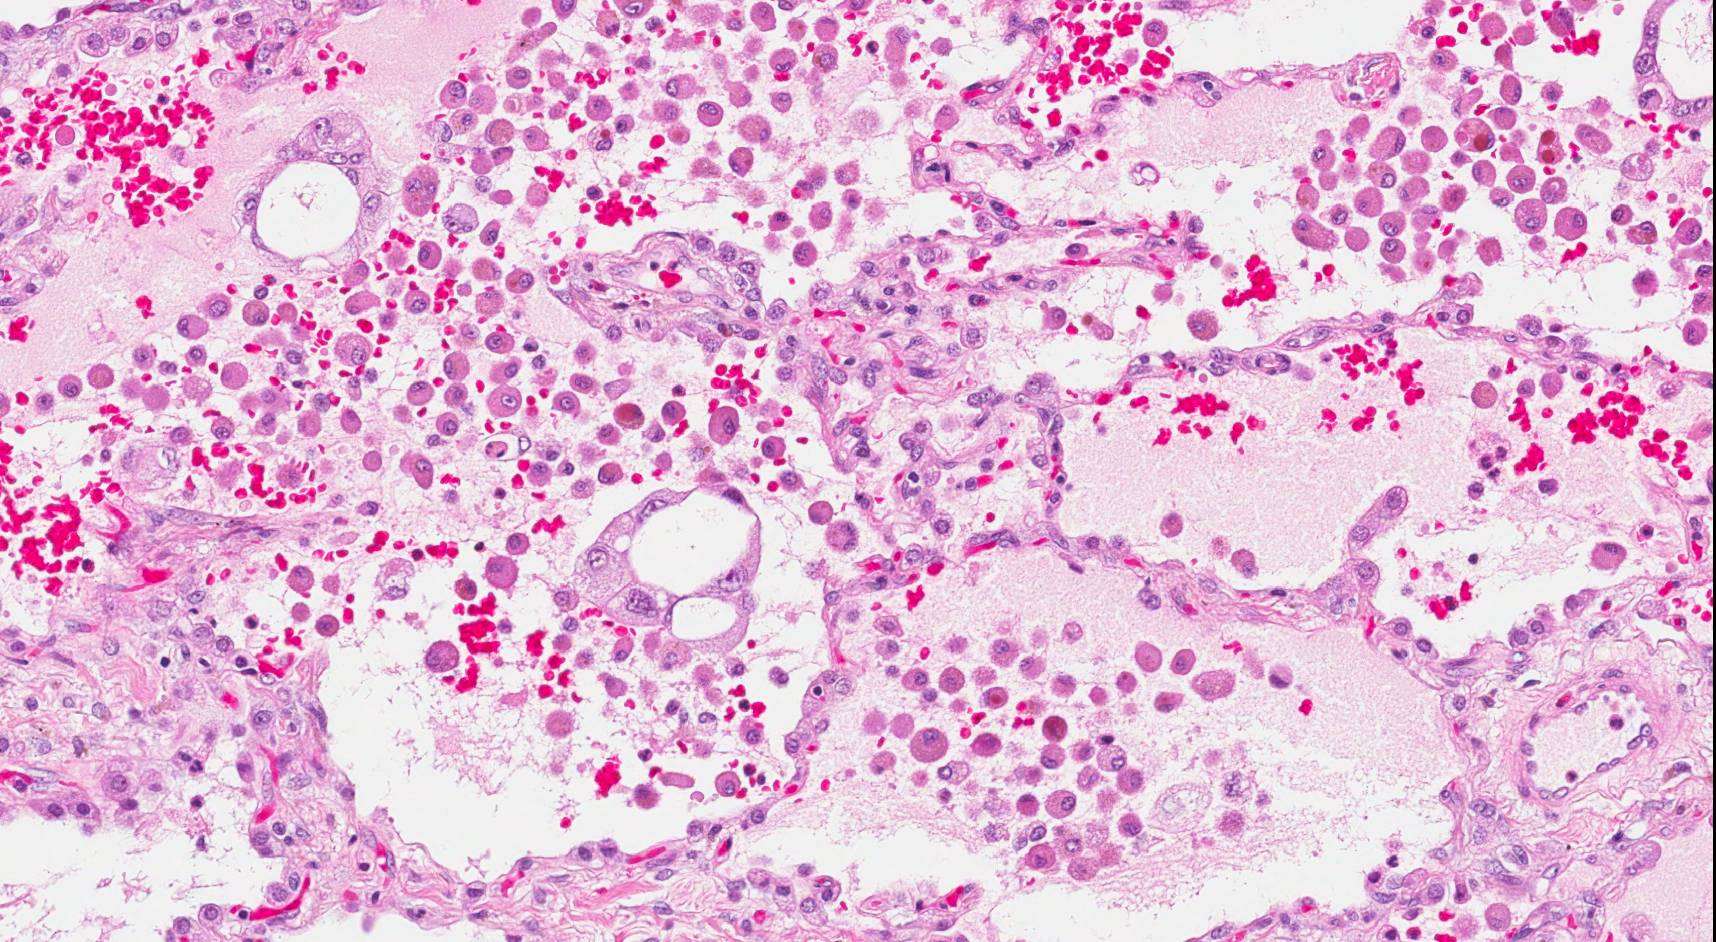stas: (572, 481, 765, 666), (242, 111, 393, 276)
